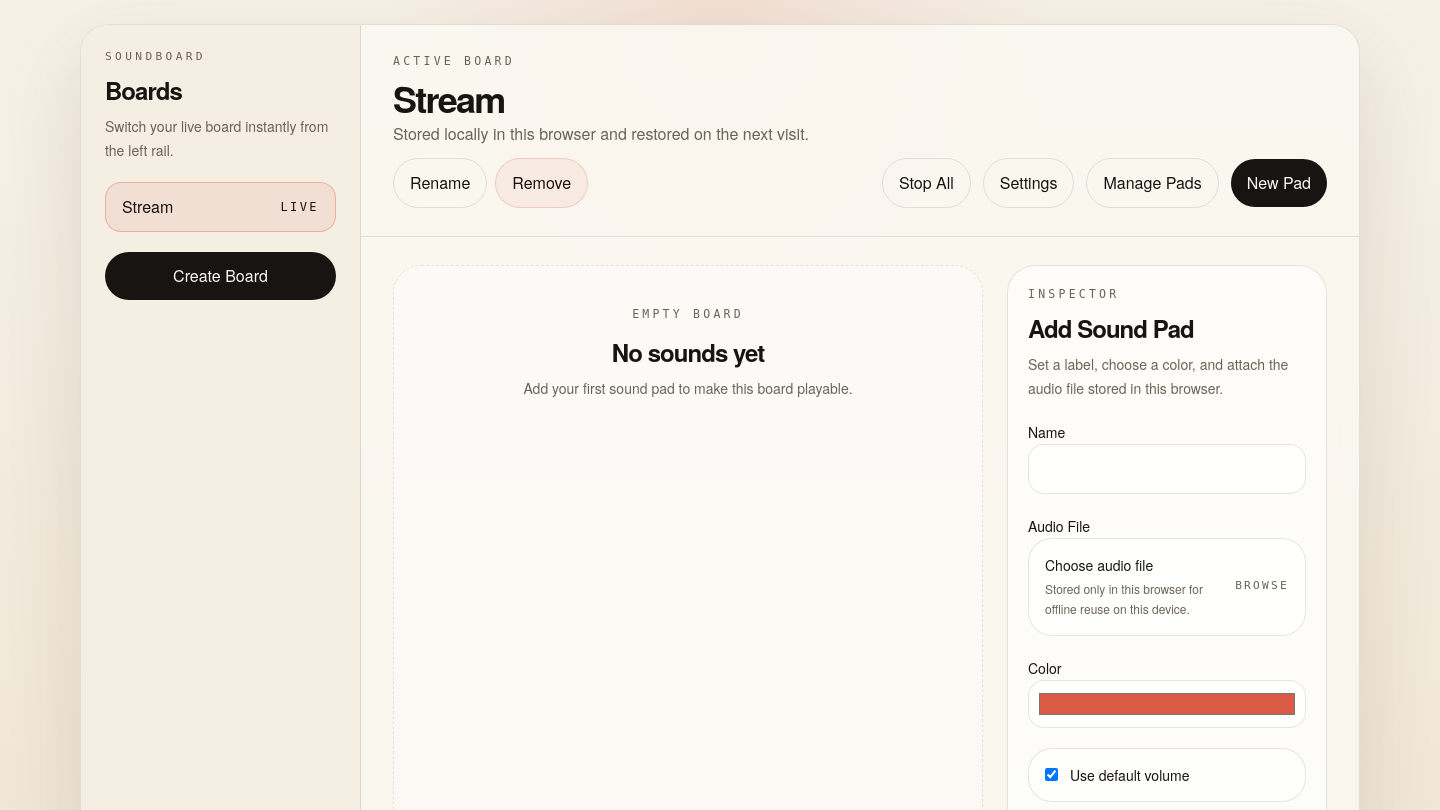
Test: SoundboardApp › returns to the empty workspace after deleting the last board
The image size is (1440, 810).
Click the button with aria-label "delete stream" at (542, 183), box [495,158,588,208]
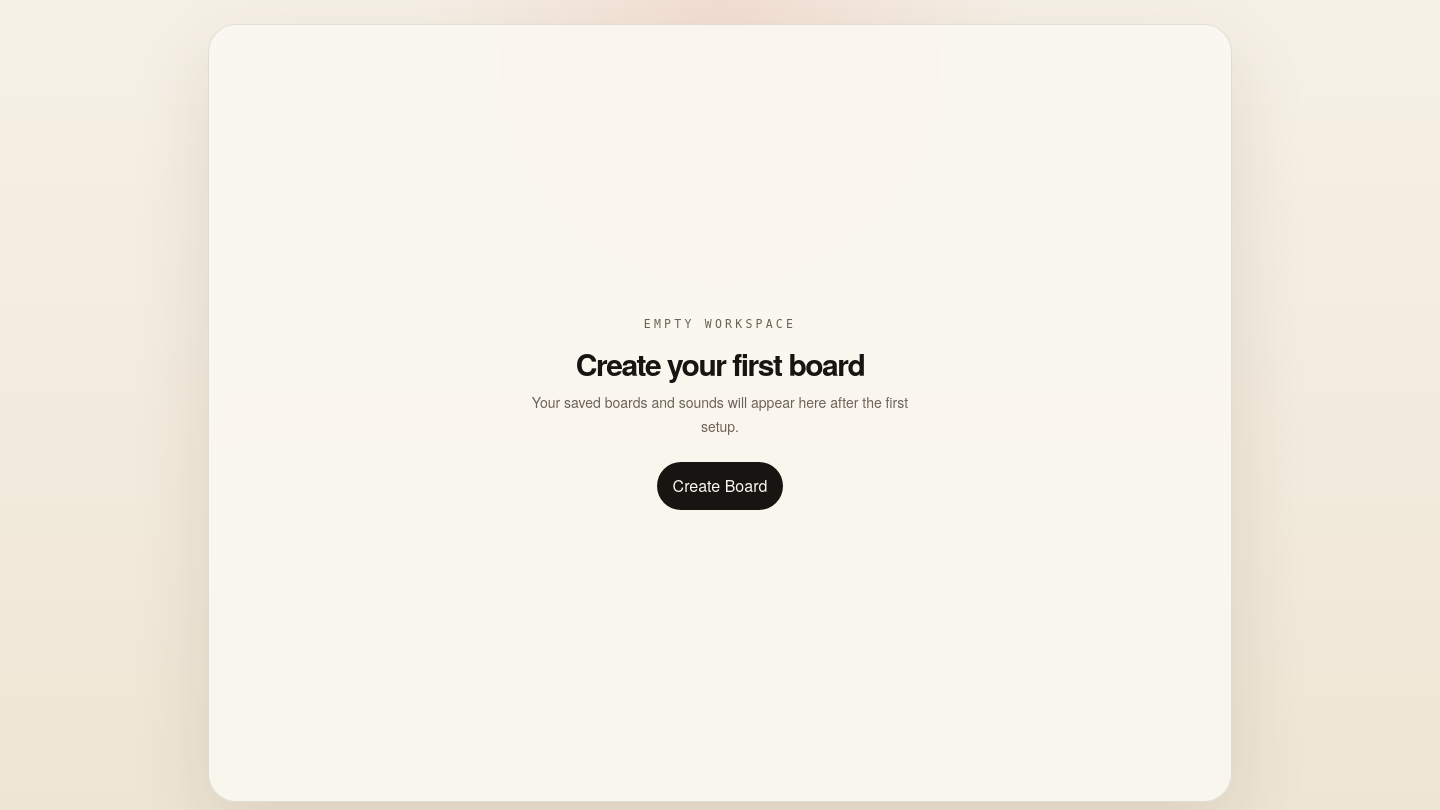
Now the heading "Create your first board" is shown, box [576,342,864,385]
